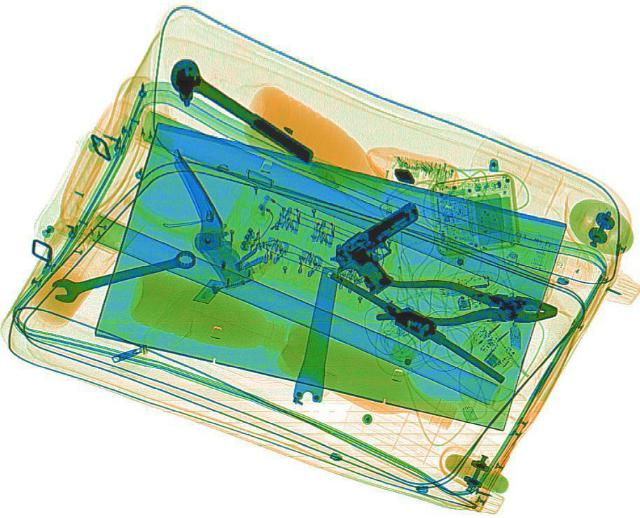Gun: (317, 197, 458, 297)
Pliers: (372, 272, 560, 333)
Wrench: (43, 244, 199, 304)
